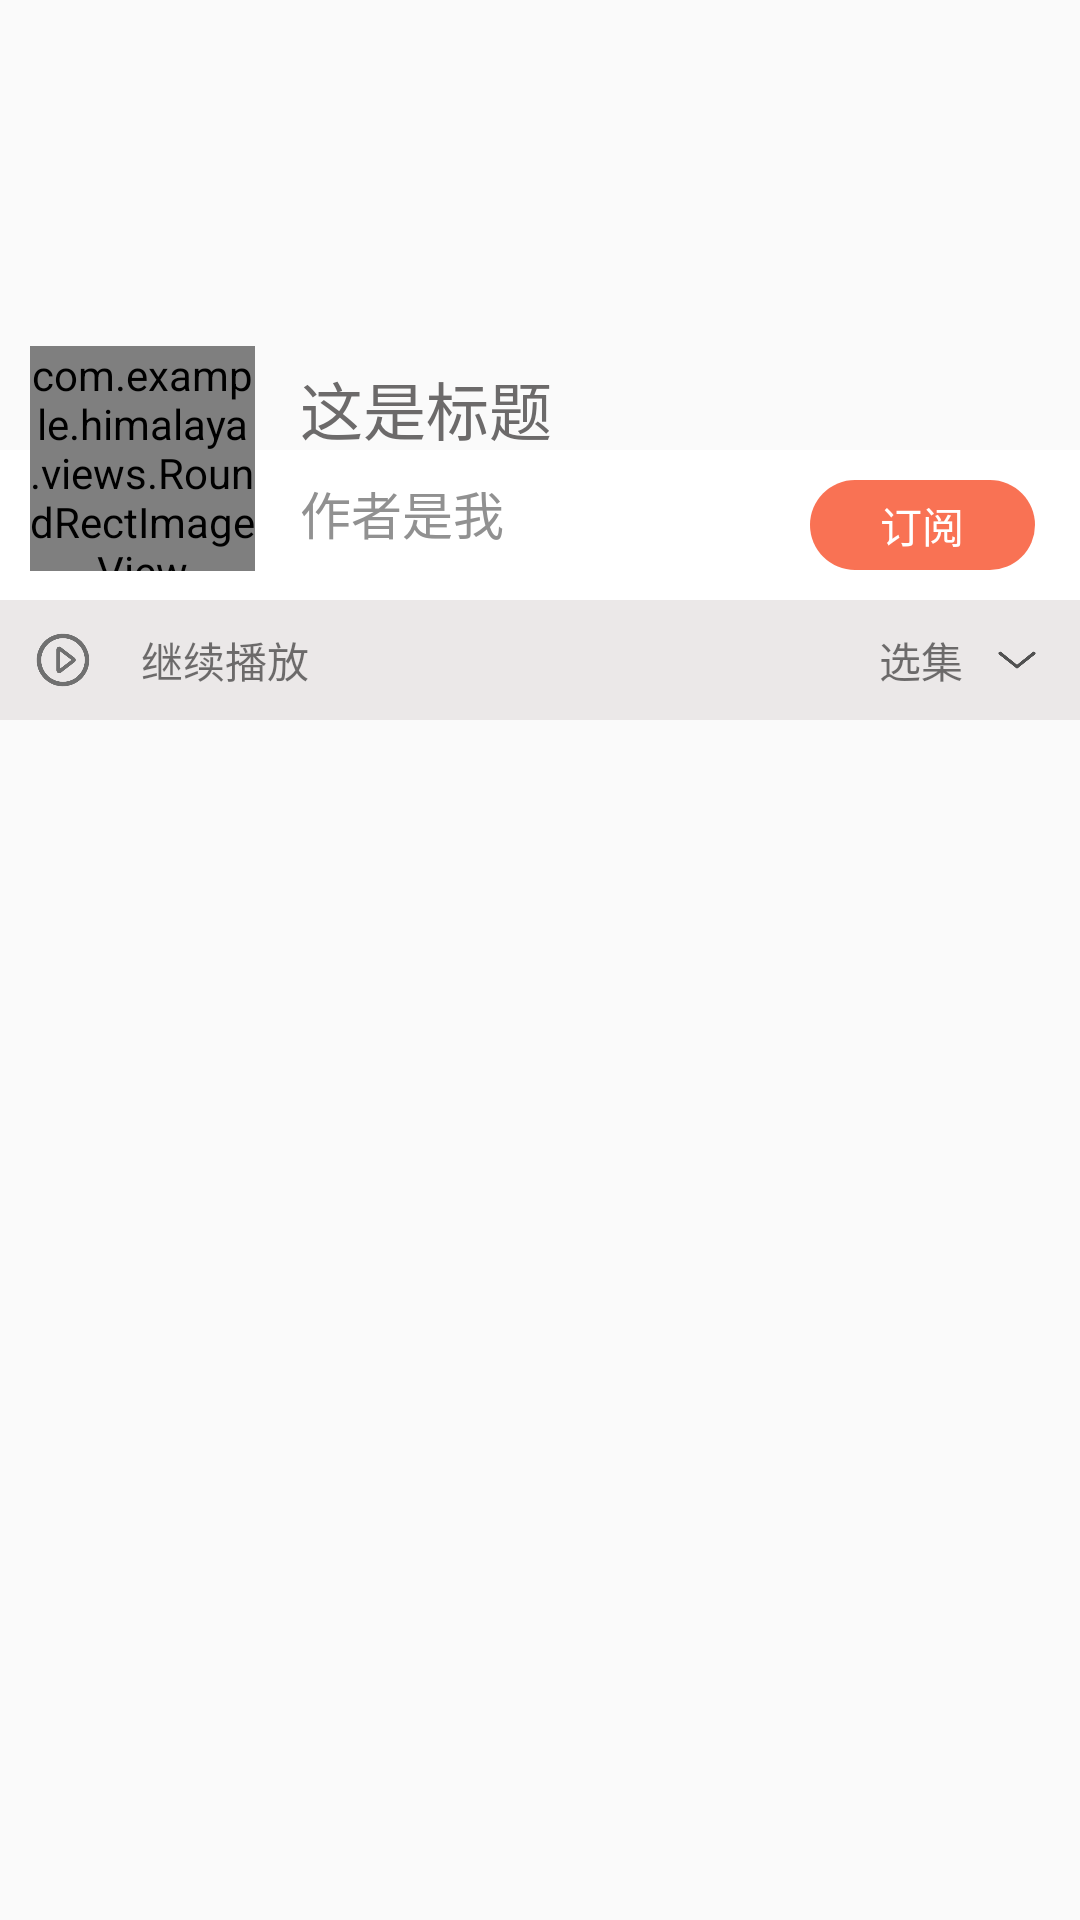

Where icons sit on this 1080x1920 app screen, as (x1, y1, x2, y2):
another play: (37, 634, 89, 686)
pull: (998, 651, 1036, 669)
